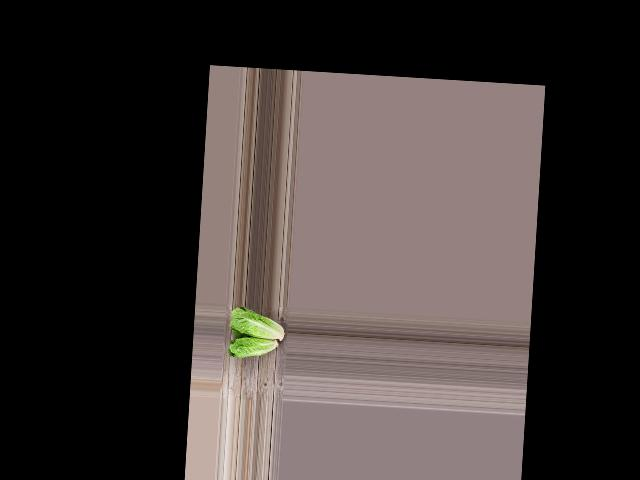lettuce: (227, 305, 288, 341)
